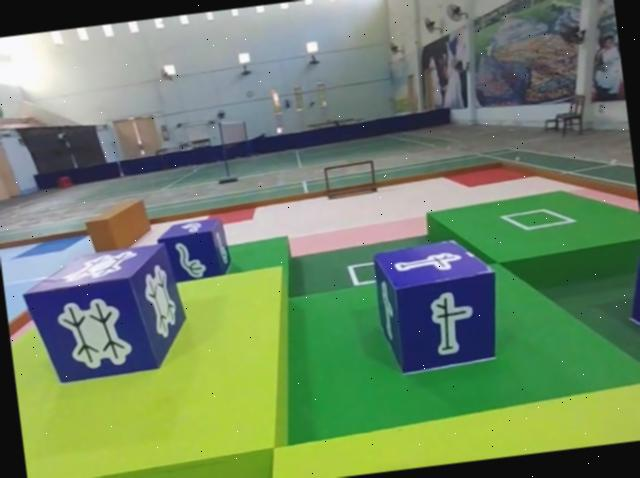R2 Real Blue: (18, 243, 189, 391), (370, 238, 506, 381), (155, 216, 234, 286)
